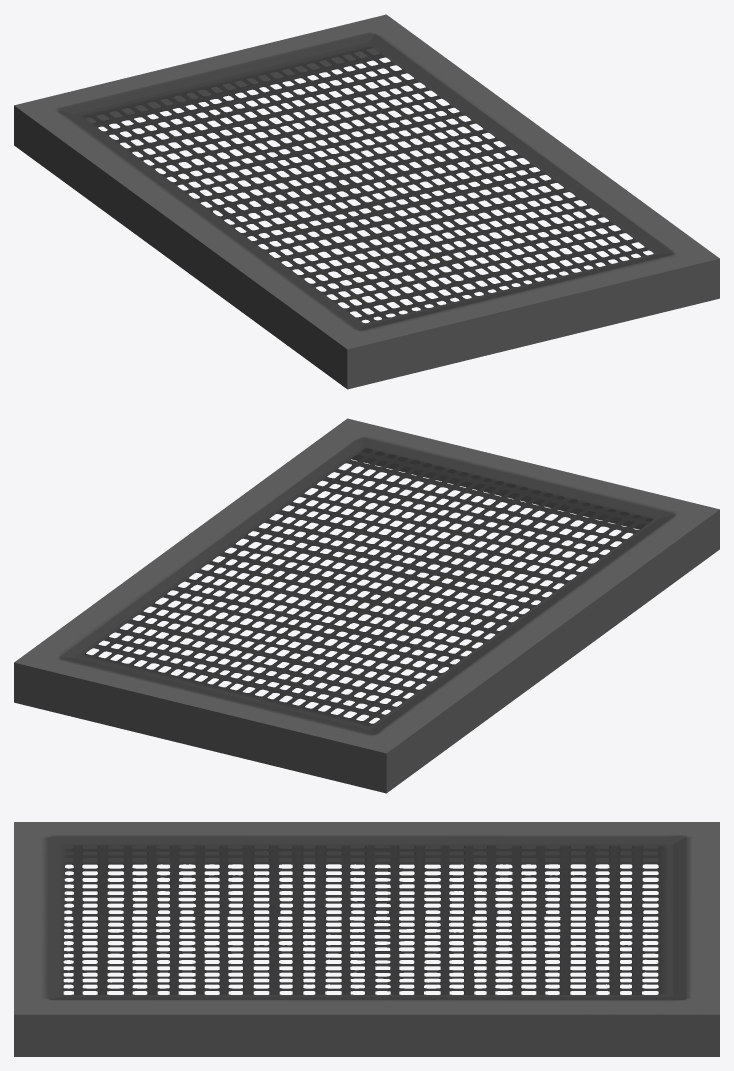
The model's file is Plataforma Metal Izqu-Med.fbx.
3 views of the same model, one above another, from view 1: azimuth 30°, elevation 25°; view 2: azimuth 150°, elevation 25°; view 3: azimuth 270°, elevation 25° (orthographic). The views are drawn at different scales.
Parts seen in each view (by area): view 1: Plane.041; view 2: Plane.041; view 3: Plane.041.
Boxes of the visible parts, <box> form: Plane.041: <box>14,14,719,389</box>; Plane.041: <box>14,418,719,793</box>; Plane.041: <box>14,822,719,1056</box>.
Size of the model in its own units: 642 by 65.96 by 996.
